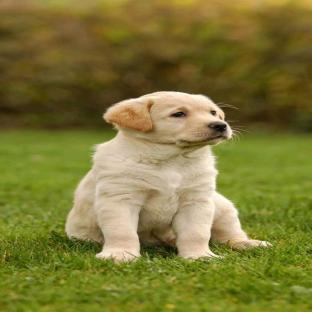Animal: (65, 91, 271, 262)
